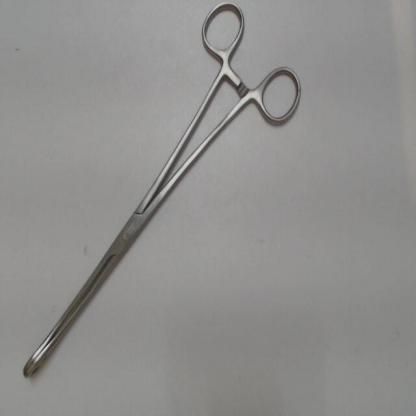Sponge Forceps: (18, 0, 307, 392)
